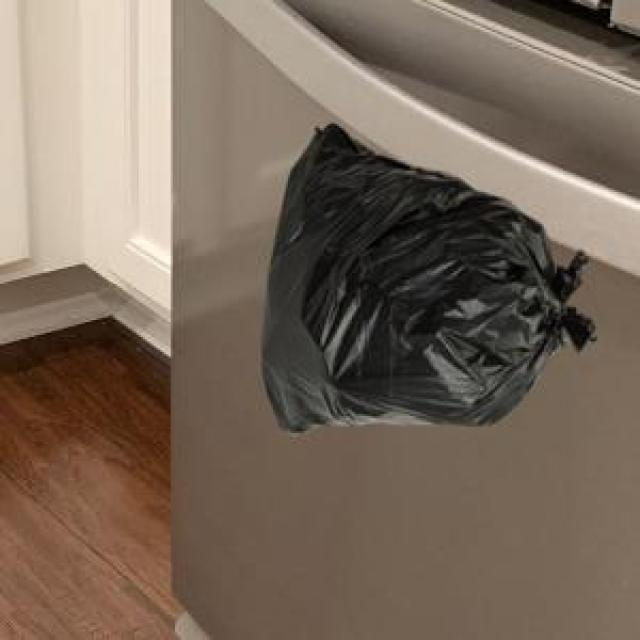miscellaneous trash: (256, 120, 593, 431)
